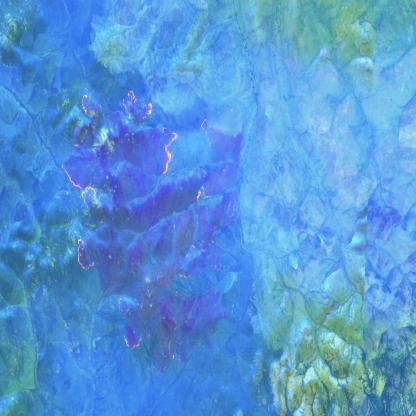fire: (56, 86, 180, 198), (194, 104, 218, 206), (115, 301, 147, 362), (70, 230, 100, 282), (174, 234, 204, 285)
